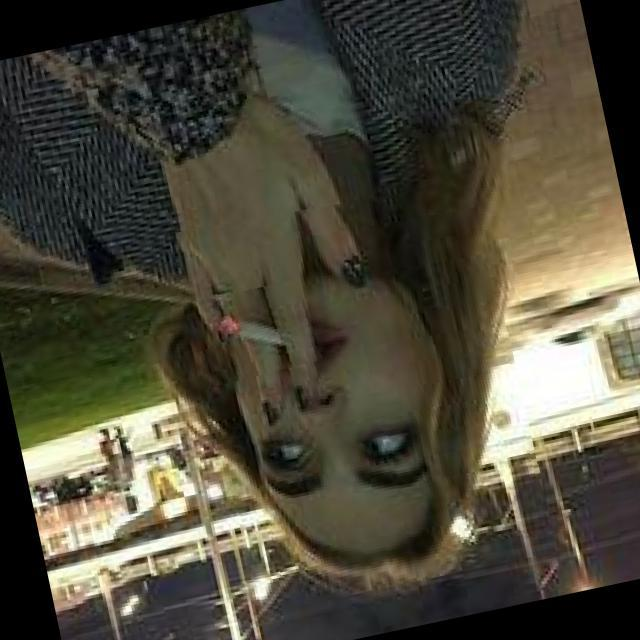cigarette: (184, 278, 324, 390)
